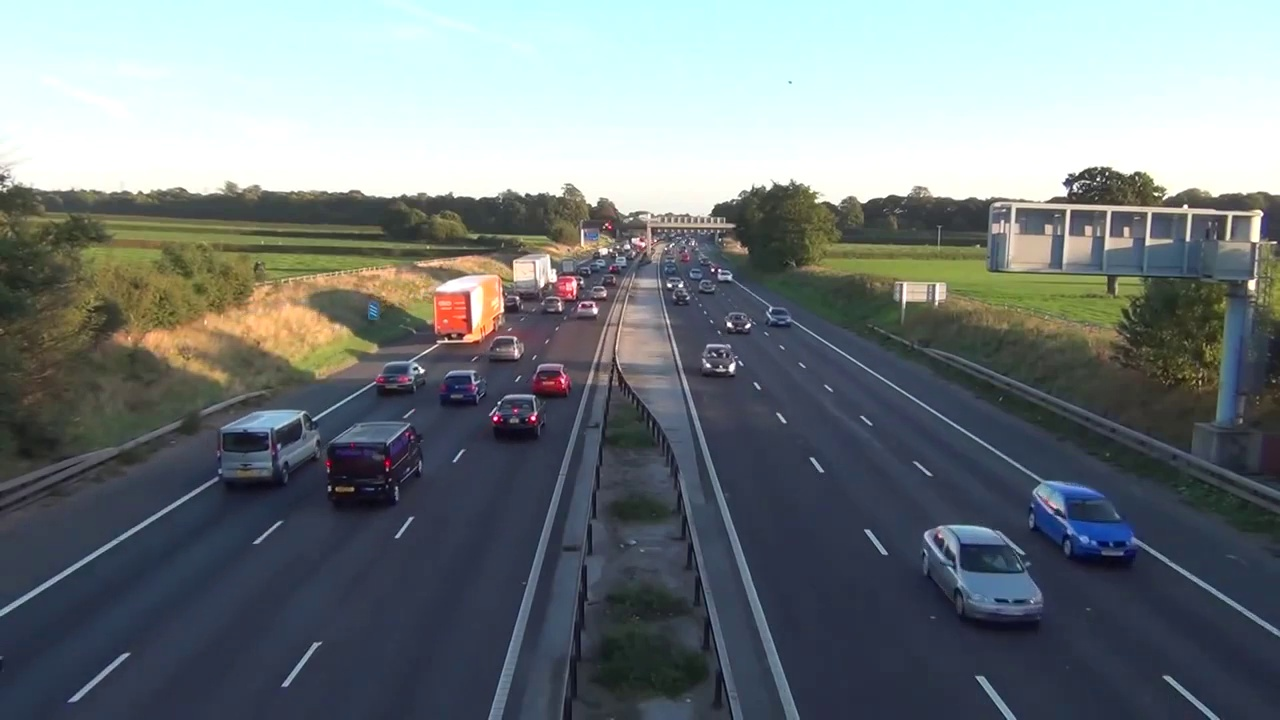bus: (916, 520, 1047, 633), (1027, 479, 1141, 570), (486, 388, 554, 443), (379, 358, 430, 400), (440, 367, 487, 407), (532, 358, 569, 397), (700, 342, 737, 378), (490, 327, 523, 364), (724, 311, 752, 337), (765, 306, 793, 329), (540, 295, 566, 316), (575, 300, 599, 319), (504, 294, 525, 313), (671, 288, 690, 306), (697, 279, 716, 296), (665, 276, 686, 291), (590, 286, 609, 300), (717, 269, 733, 284), (689, 268, 705, 281), (572, 276, 585, 289), (601, 275, 616, 286), (609, 264, 623, 275), (710, 263, 722, 275), (664, 263, 676, 274), (578, 267, 591, 277), (588, 263, 601, 272), (552, 267, 558, 285)
car: (433, 274, 507, 344), (512, 252, 552, 299), (561, 258, 577, 276)
lorry: (321, 418, 430, 514), (216, 405, 322, 490), (555, 276, 578, 304)
